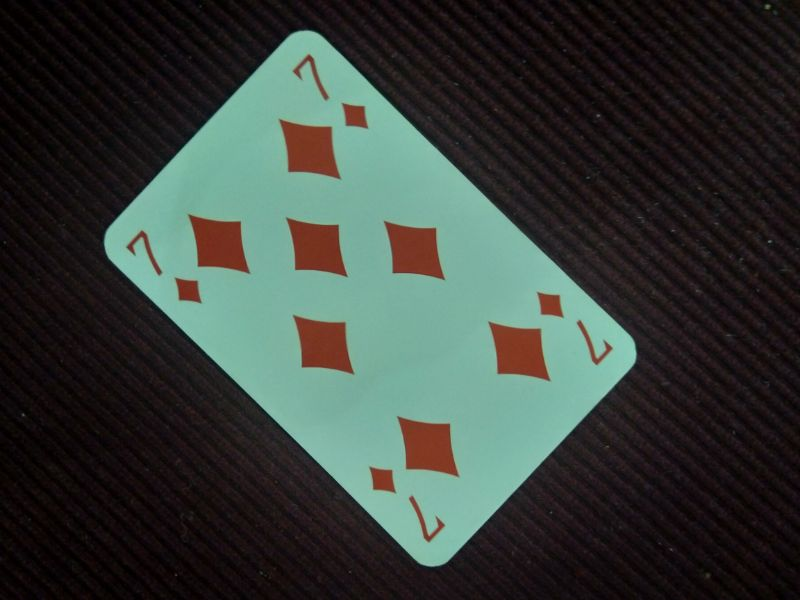7d: (290, 50, 372, 132), (126, 225, 206, 309), (367, 463, 447, 545), (534, 287, 614, 367)
